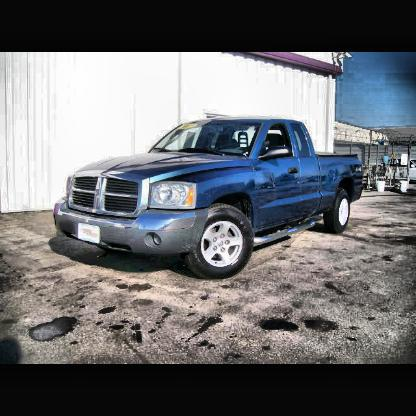Dodge Dakota Club Cab 2007: (52, 116, 366, 282)
